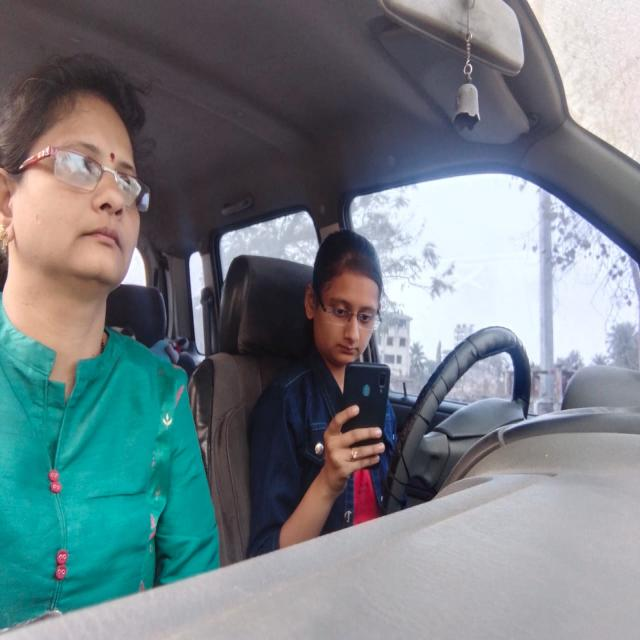mobile: (346, 360, 392, 458)
person: (2, 50, 158, 350), (306, 227, 392, 375)
